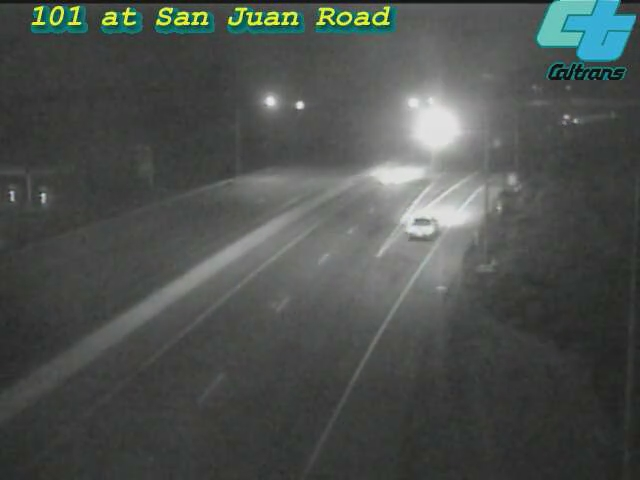vehicle: (356, 133, 436, 213), (376, 195, 456, 275), (410, 106, 460, 156), (543, 94, 593, 144)
